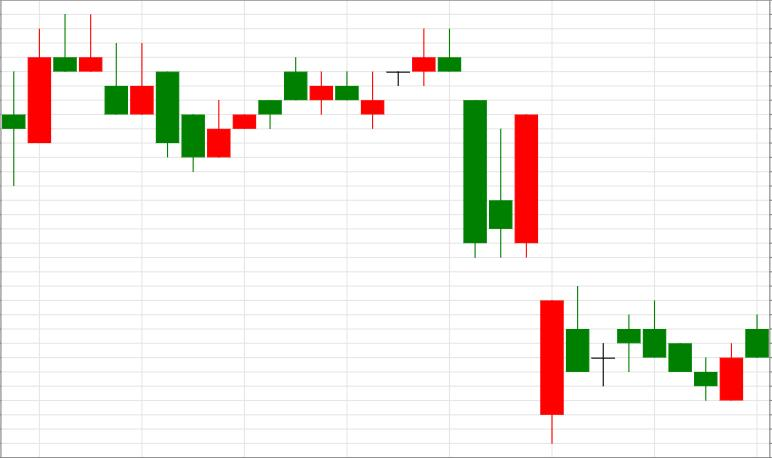bullish_engulfing_rise: (617, 299, 743, 401)
